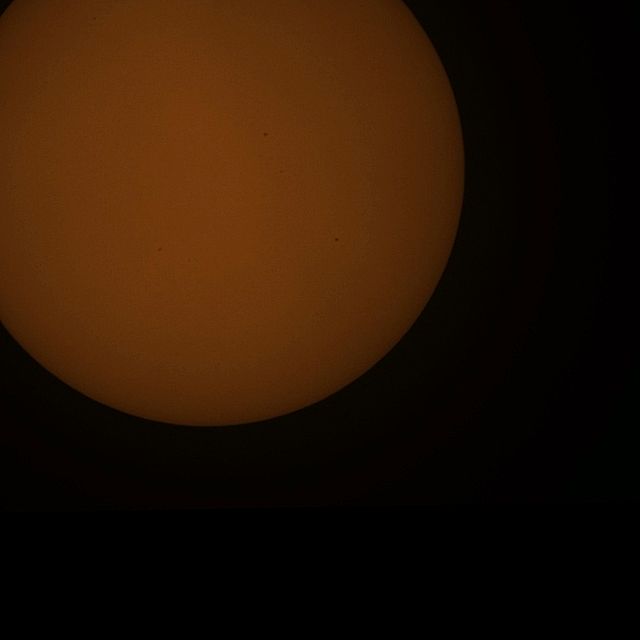sunspot: (262, 131, 269, 138), (157, 246, 163, 253), (334, 237, 339, 243)
